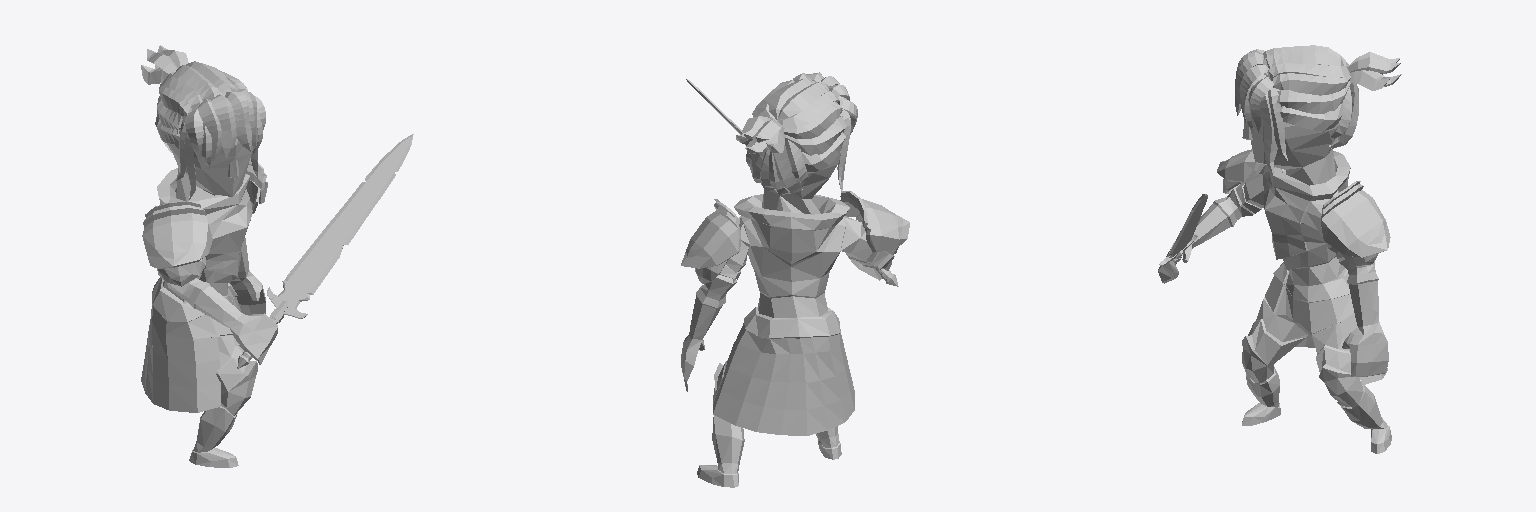
The picture shows the model from 3 angles: view 1: azimuth 30°, elevation 25°; view 2: azimuth 150°, elevation 25°; view 3: azimuth 270°, elevation 25°; orthographic projection.
Parts seen in each view (by area): view 1: Warrior.002__ncl1_29.005, Face__ncl1_29.002, Warrior_Sword_Cylinder.001, Shoulder.R__ncl1_29.001, Shoulder.L__ncl1_29.000; view 2: Warrior.002__ncl1_29.005, Face__ncl1_29.002, Shoulder.L__ncl1_29.000, Shoulder.R__ncl1_29.001; view 3: Warrior.002__ncl1_29.005, Face__ncl1_29.002, Shoulder.L__ncl1_29.000, Shoulder.R__ncl1_29.001, Warrior_Sword_Cylinder.001.
Boxes of the visible parts, x1,y1,x2,y2 form: Warrior.002__ncl1_29.005: [141, 116, 277, 467]; Face__ncl1_29.002: [141, 45, 265, 199]; Warrior_Sword_Cylinder.001: [237, 134, 413, 368]; Shoulder.R__ncl1_29.001: [142, 201, 212, 286]; Shoulder.L__ncl1_29.000: [246, 158, 267, 213]; Warrior.002__ncl1_29.005: [681, 151, 894, 487]; Face__ncl1_29.002: [736, 72, 857, 194]; Shoulder.L__ncl1_29.000: [681, 199, 740, 283]; Shoulder.R__ncl1_29.001: [840, 191, 909, 254]; Warrior.002__ncl1_29.005: [1158, 111, 1391, 453]; Face__ncl1_29.002: [1235, 45, 1401, 174]; Shoulder.L__ncl1_29.000: [1321, 181, 1390, 265]; Shoulder.R__ncl1_29.001: [1217, 149, 1264, 193]; Warrior_Sword_Cylinder.001: [1159, 194, 1207, 266].
Size of the model in its own units: 1.87 by 2.79 by 1.65.